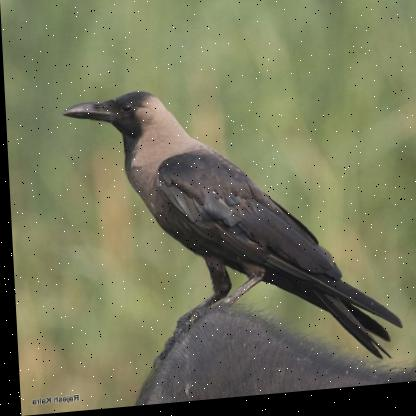Burung: (61, 76, 400, 386)
